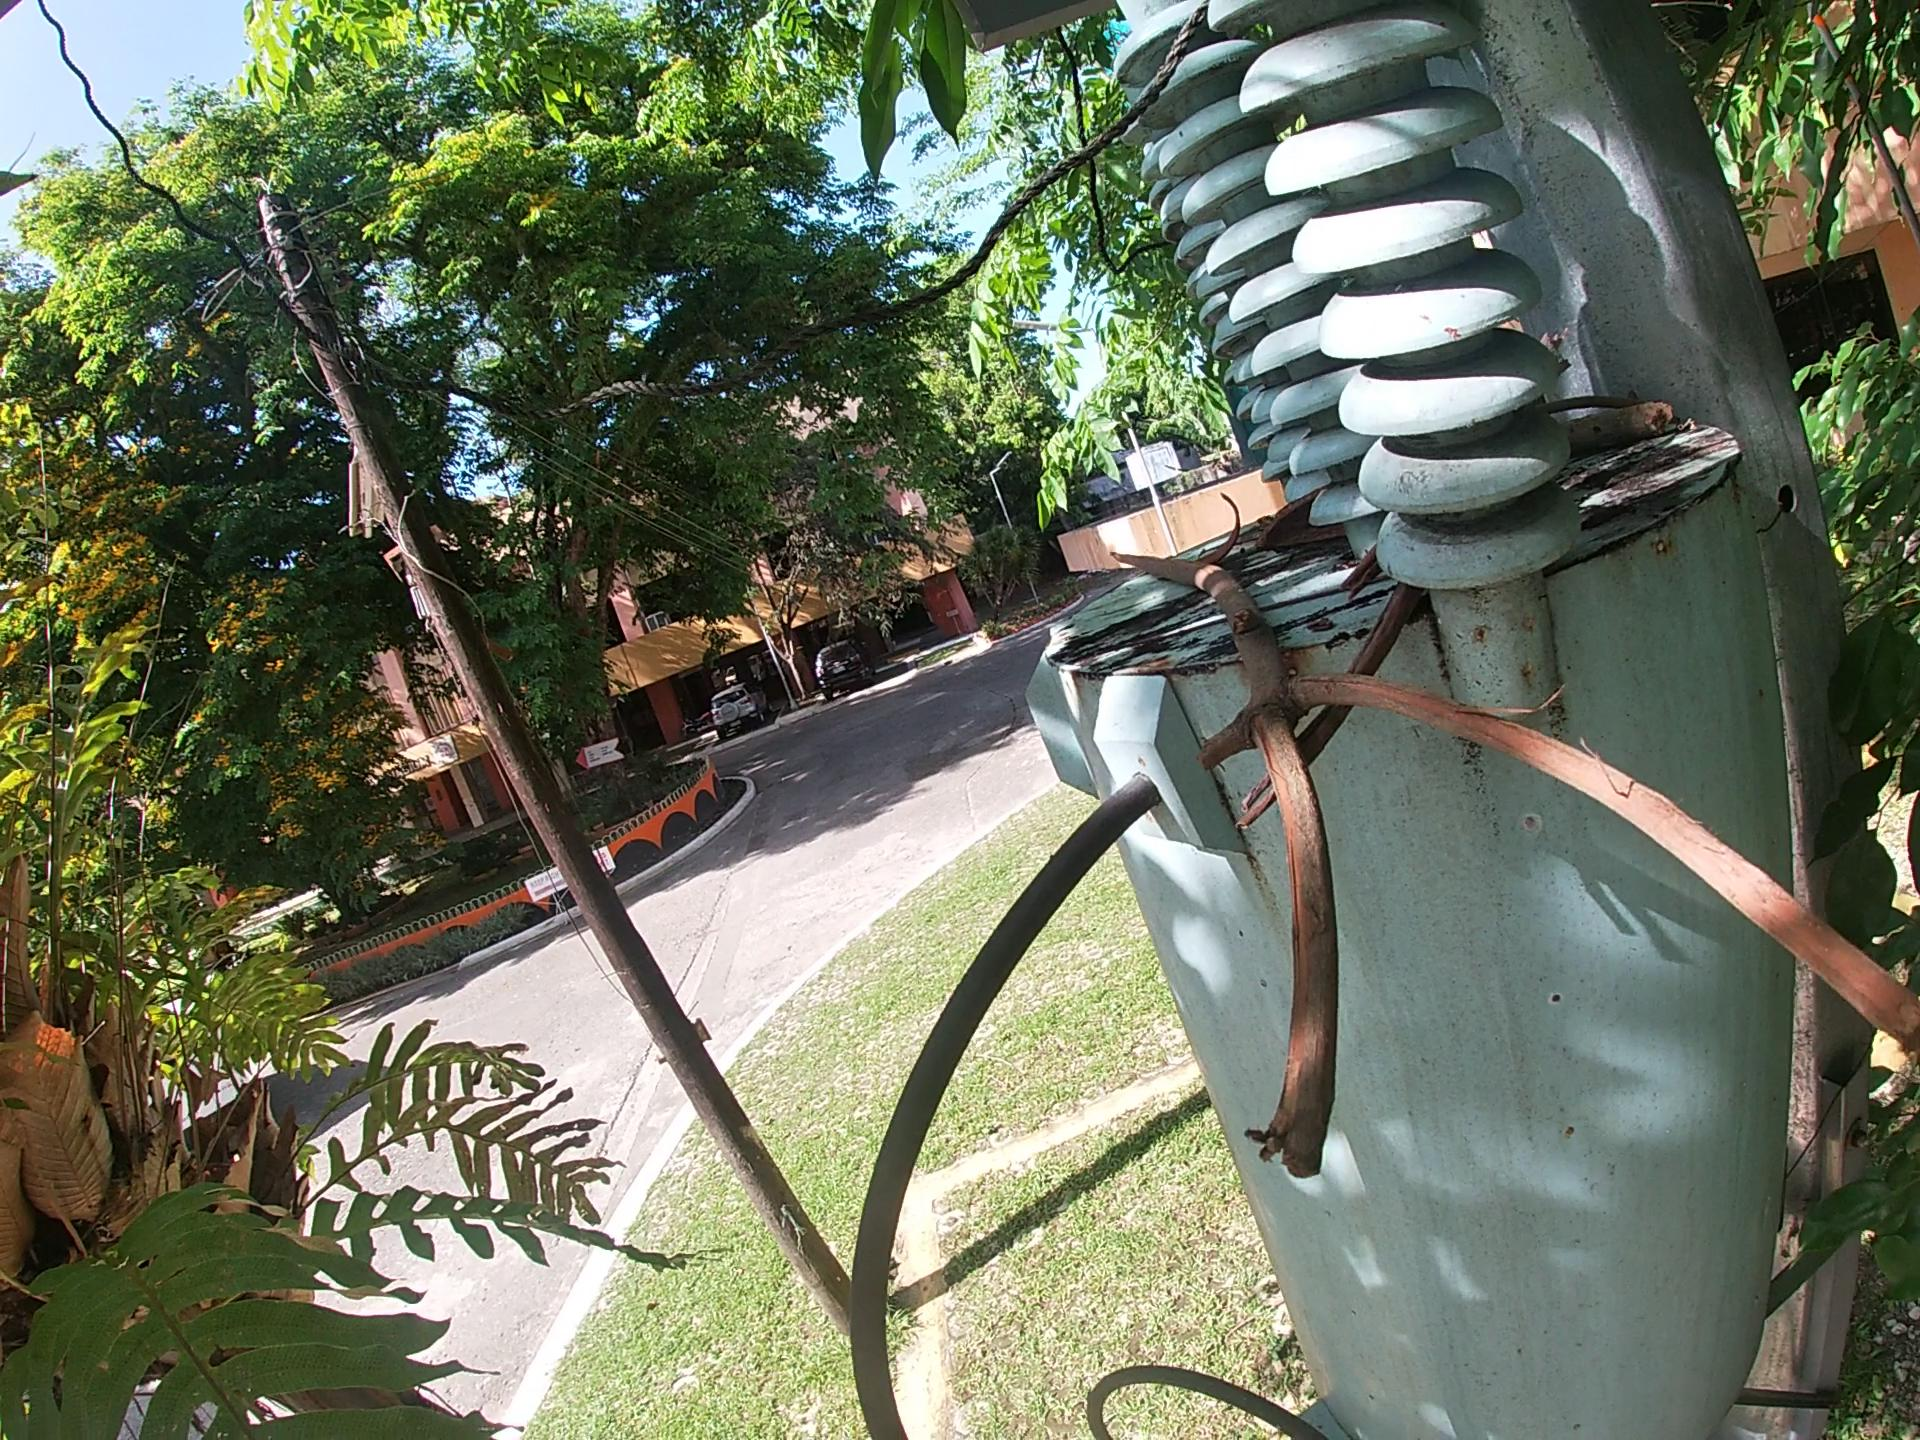mahogany fruit: (1253, 483, 1352, 561), (1206, 490, 1250, 561)
tree branch: (1104, 538, 1920, 1193), (1231, 542, 1438, 836), (1547, 393, 1681, 476)
